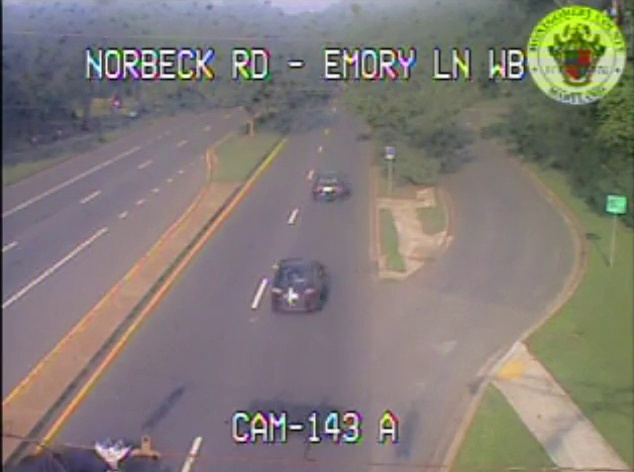car: (271, 260, 322, 312), (312, 174, 346, 201)
